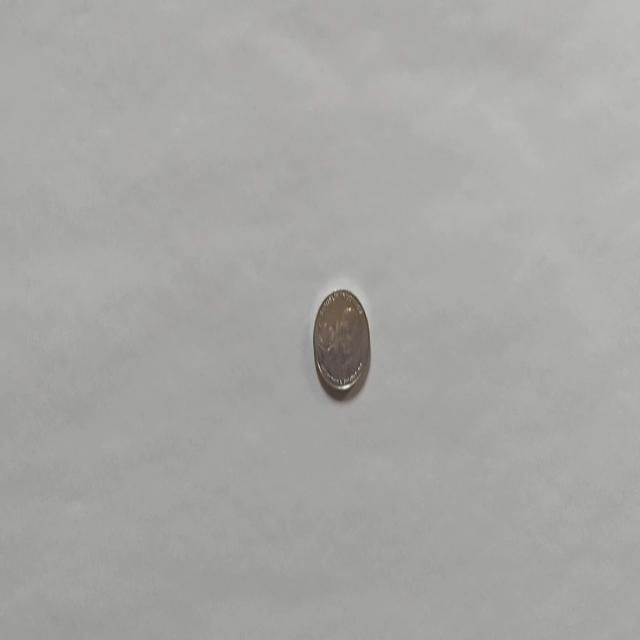lima ratus rupiah: (311, 286, 371, 396)
